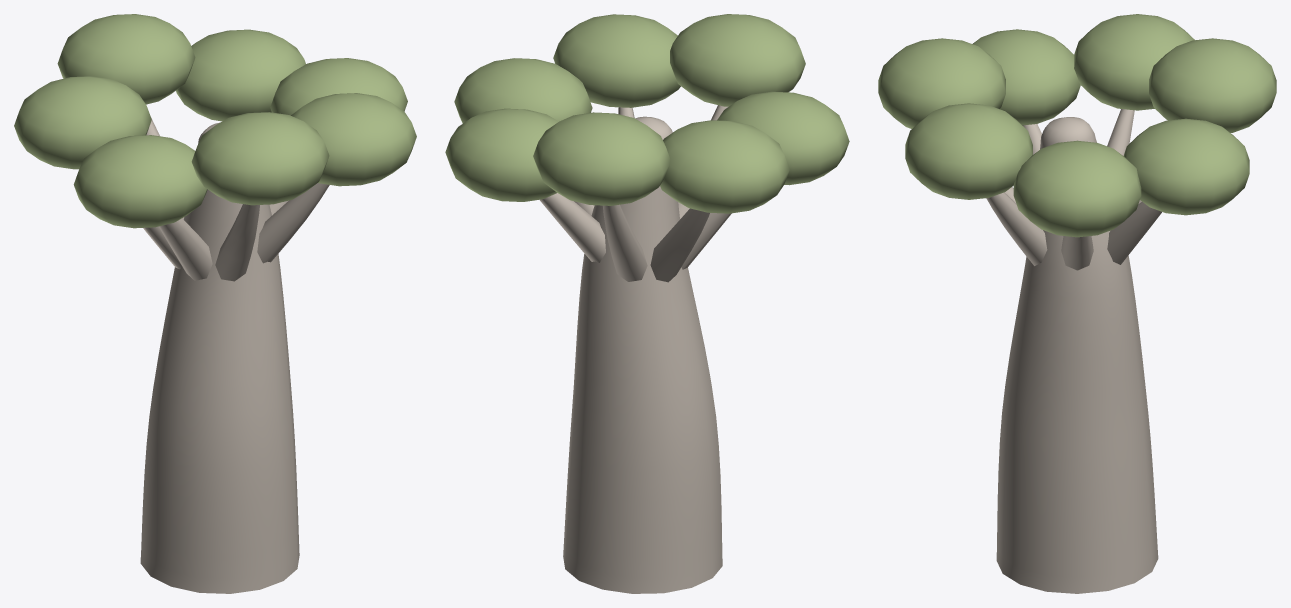
Rendered from savanna-wildlife-baobab-b639c558__6560.glb.
3 renders of one model, left to right at view 1: azimuth 30°, elevation 25°; view 2: azimuth 150°, elevation 25°; view 3: azimuth 270°, elevation 25°, orthographic.
Parts seen in each view (by area): view 1: baobab; view 2: baobab; view 3: baobab.
Boxes of the visible parts, x1,y1,x2,y2 form: baobab: (14, 14, 416, 593); baobab: (445, 14, 849, 593); baobab: (878, 14, 1276, 593).
Size of the model in its own units: 5.26 by 7.15 by 5.17.
